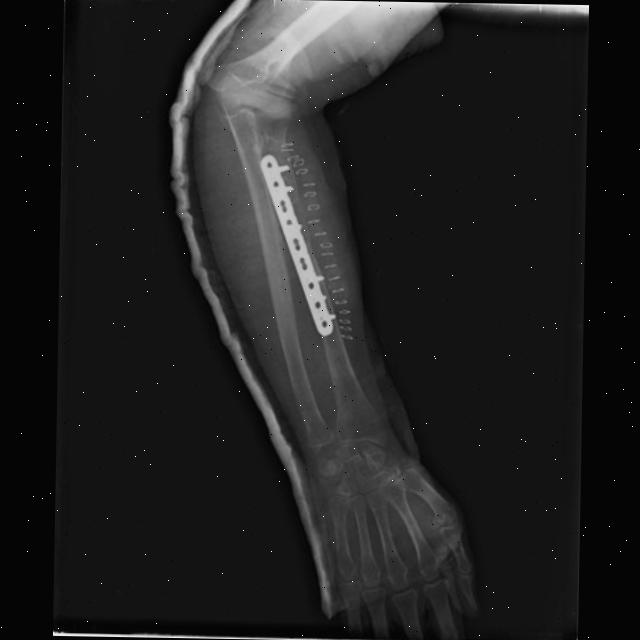Fracture: (298, 231, 314, 252)
